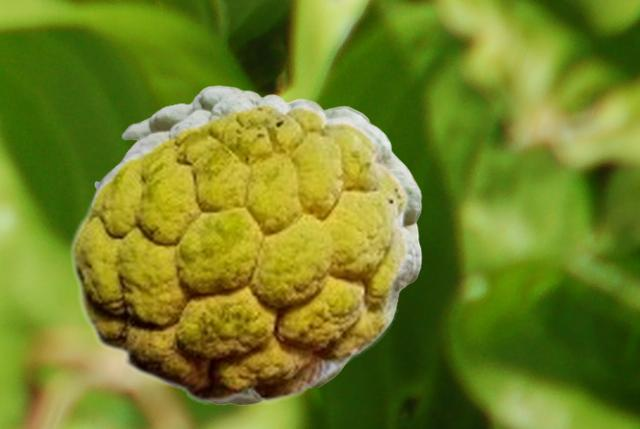atis: (92, 85, 421, 404), (68, 101, 410, 403)
